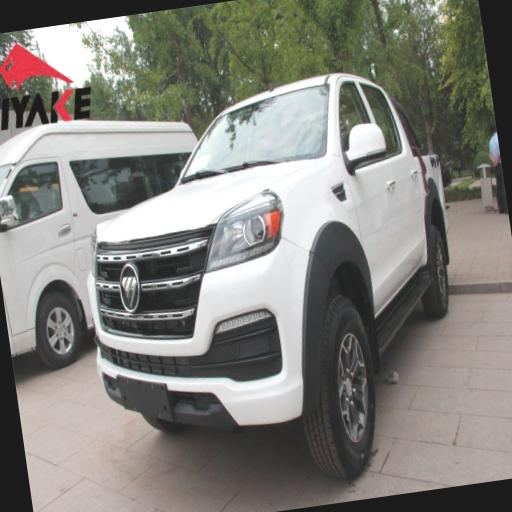pickup: (88, 74, 448, 476), (0, 121, 197, 367)
